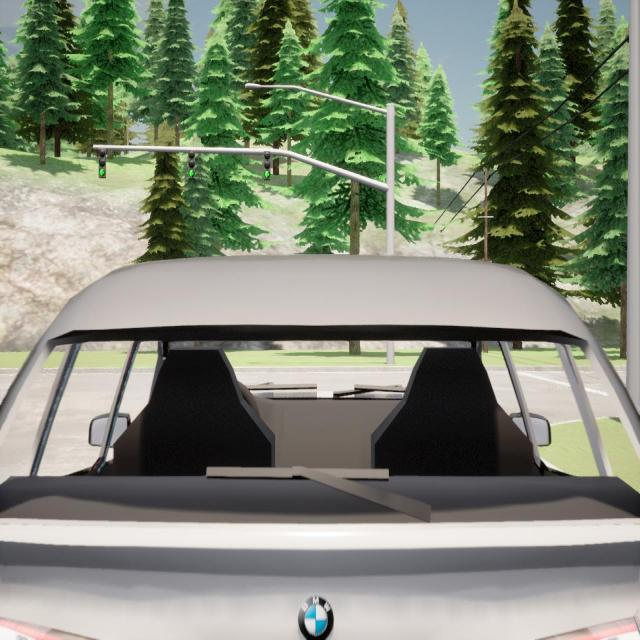Vehicle: (2, 258, 640, 640)
traffic_light: (98, 146, 107, 178), (187, 148, 196, 179), (262, 150, 271, 180)
